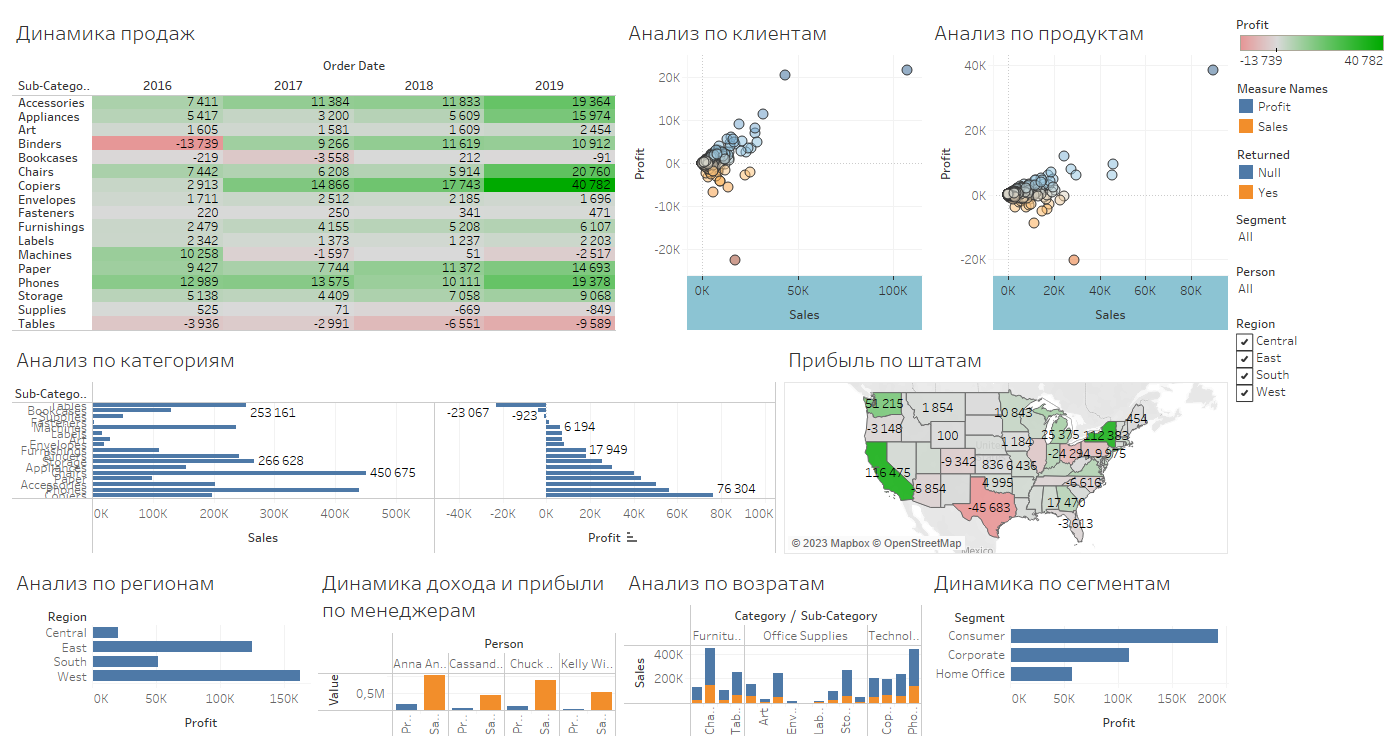

Layout of this report page (visuals, bound fields, positions):
{"tool":"tableau","page":{"name":"Dashboard 1","canvas":[1400,750],"ordinal":0},"visuals":[{"type":"worksheet","title":"Динамика продаж","mark":"Square","rows":["Sub-Category"],"cols":["Order Date"],"box":[8,8,611.9,327]},{"type":"worksheet","title":"Анализ по клиентам","mark":"Circle","rows":["Profit"],"cols":["Sales"],"box":[619.9,8,306,327]},{"type":"worksheet","title":"Анализ по продуктам","mark":"Circle","rows":["Profit"],"cols":["Sales"],"box":[925.9,8,306.1,327]},{"type":"legend","title":"Динамика продаж","param":"[federated.076mbva0qhmc8e1cwjwzp0z5prh7].[sum:Profit:qk]","box":[1232,8,160,65]},{"type":"legend","title":"Динамика дохода и прибыли по менеджерам","param":"[federated.076mbva0qhmc8e1cwjwzp0z5prh7].[:Measure Names]","box":[1232,73,160,66]},{"type":"legend","title":"Анализ по возратам","param":"[federated.076mbva0qhmc8e1cwjwzp0z5prh7].[none:Returned:nk]","box":[1232,139,160,66]},{"type":"filter","title":"Динамика по сегментам","param":"[federated.076mbva0qhmc8e1cwjwzp0z5prh7].[none:Segment:nk]","box":[1232,205,160,52]},{"type":"filter","title":"Динамика дохода и прибыли по менеджерам","param":"[federated.076mbva0qhmc8e1cwjwzp0z5prh7].[none:Person:nk]","box":[1232,257,160,52]},{"type":"filter","title":"Анализ по регионам","param":"[federated.076mbva0qhmc8e1cwjwzp0z5prh7].[none:Region:nk]","box":[1232,309,160,127]},{"type":"worksheet","title":"Анализ по категориям","mark":"Automatic","rows":["Sub-Category"],"cols":["Sales","Profit"],"box":[8,335,772.2,223.5]},{"type":"worksheet","title":"Прибыль по штатам","mark":"Automatic","box":[780.1,335,451.9,223.5]},{"type":"worksheet","title":"Анализ по регионам","mark":"Automatic","rows":["Region"],"cols":["Profit"],"box":[8,558.5,305.9,183.5]},{"type":"worksheet","title":"Динамика дохода и прибыли по менеджерам","mark":"Automatic","cols":["Person"],"box":[313.9,558.5,306,183.5]},{"type":"worksheet","title":"Анализ по возратам","mark":"Automatic","rows":["Sales"],"cols":["Category","Sub-Category"],"box":[619.9,558.5,306,183.5]},{"type":"worksheet","title":"Динамика по сегментам","mark":"Automatic","rows":["Segment"],"cols":["Profit"],"box":[925.9,558.5,306.1,183.5]}]}

Visuals, with their boxes in screenshot pixels (x1, y1, x2, y2), scaled from the page's 1400x750 canvas onto the 1400x750 screenshot:
"Динамика продаж" worksheet (Square marks): <bbox>8, 8, 620, 335</bbox>
"Анализ по клиентам" worksheet (Circle marks): <bbox>620, 8, 926, 335</bbox>
"Анализ по продуктам" worksheet (Circle marks): <bbox>926, 8, 1232, 335</bbox>
"Динамика продаж" legend: <bbox>1232, 8, 1392, 73</bbox>
"Динамика дохода и прибыли по менеджерам" legend: <bbox>1232, 73, 1392, 139</bbox>
"Анализ по возратам" legend: <bbox>1232, 139, 1392, 205</bbox>
"Динамика по сегментам" filter: <bbox>1232, 205, 1392, 257</bbox>
"Динамика дохода и прибыли по менеджерам" filter: <bbox>1232, 257, 1392, 309</bbox>
"Анализ по регионам" filter: <bbox>1232, 309, 1392, 436</bbox>
"Анализ по категориям" worksheet: <bbox>8, 335, 780, 558</bbox>
"Прибыль по штатам" worksheet: <bbox>780, 335, 1232, 558</bbox>
"Анализ по регионам" worksheet: <bbox>8, 558, 314, 742</bbox>
"Динамика дохода и прибыли по менеджерам" worksheet: <bbox>314, 558, 620, 742</bbox>
"Анализ по возратам" worksheet: <bbox>620, 558, 926, 742</bbox>
"Динамика по сегментам" worksheet: <bbox>926, 558, 1232, 742</bbox>
